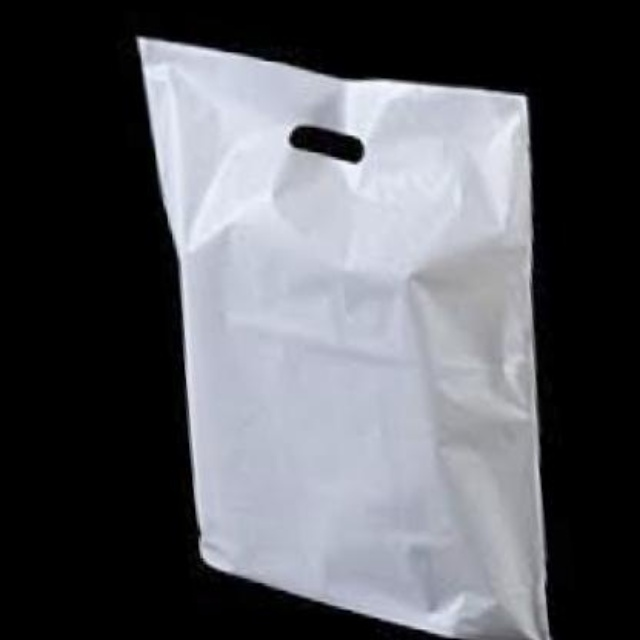trash: (138, 38, 548, 638)
